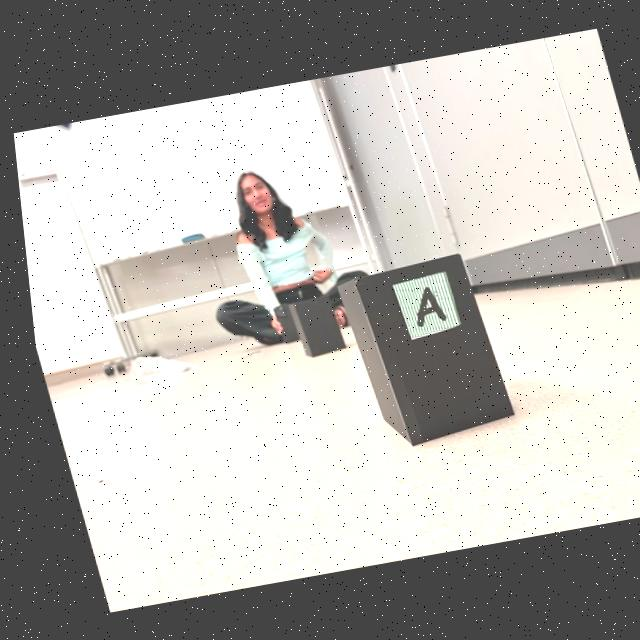A: (409, 286, 439, 326)
